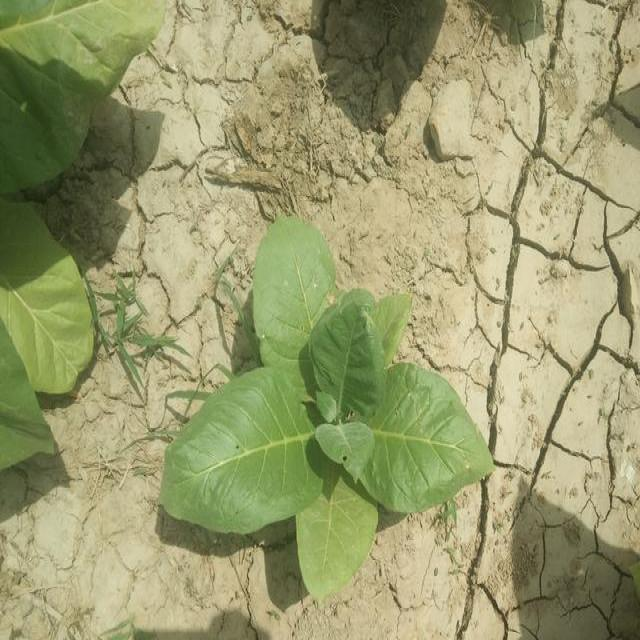crop: (162, 223, 495, 591), (0, 0, 162, 177), (0, 202, 96, 468)
